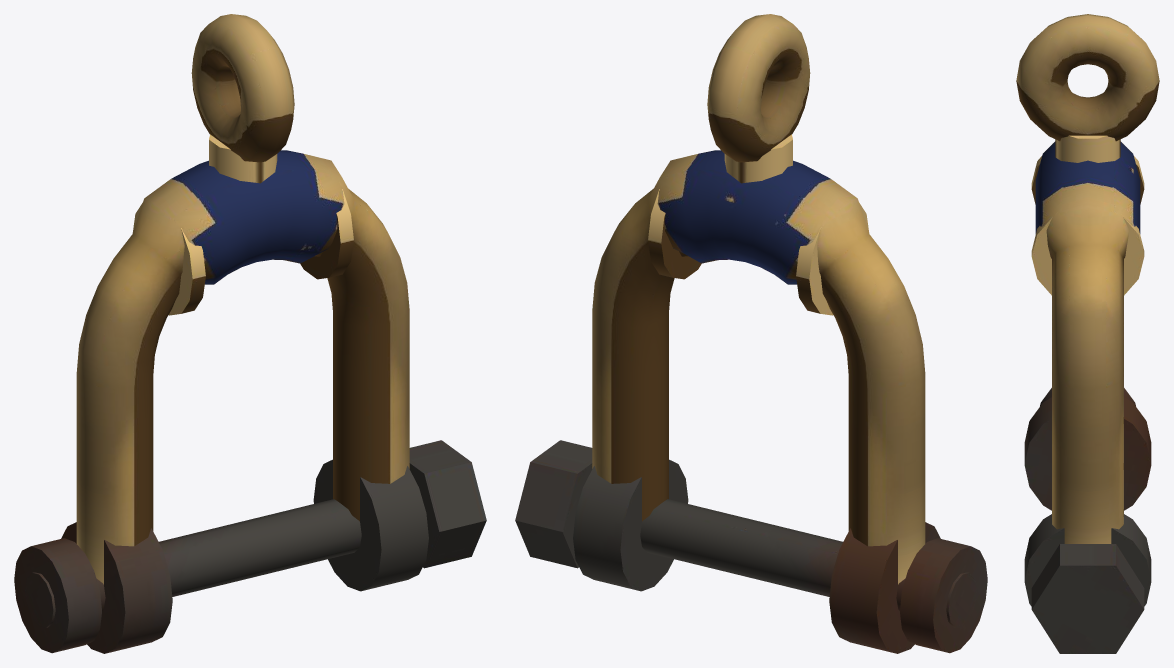
File: ChainShackle.glb
3 views of the same model, side by side, from view 1: azimuth 30°, elevation 25°; view 2: azimuth 150°, elevation 25°; view 3: azimuth 270°, elevation 25° (orthographic). The views are drawn at different scales.
Parts seen in each view (by area): view 1: ChainShackle; view 2: ChainShackle; view 3: ChainShackle.
Boxes of the visible parts, <box> form: ChainShackle: <box>14,14,486,653</box>; ChainShackle: <box>515,14,987,653</box>; ChainShackle: <box>1016,14,1159,653</box>.
Size of the model in its own units: 0.44 by 0.597 by 0.14.
1 material, 1 textured.
